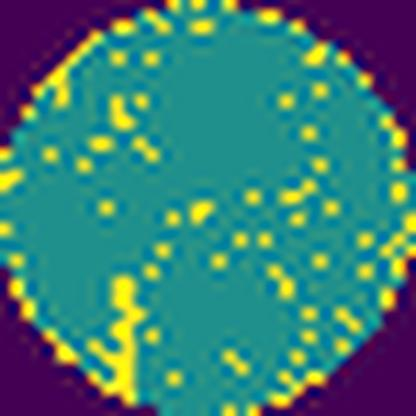Scratch: (85, 274, 149, 404)
